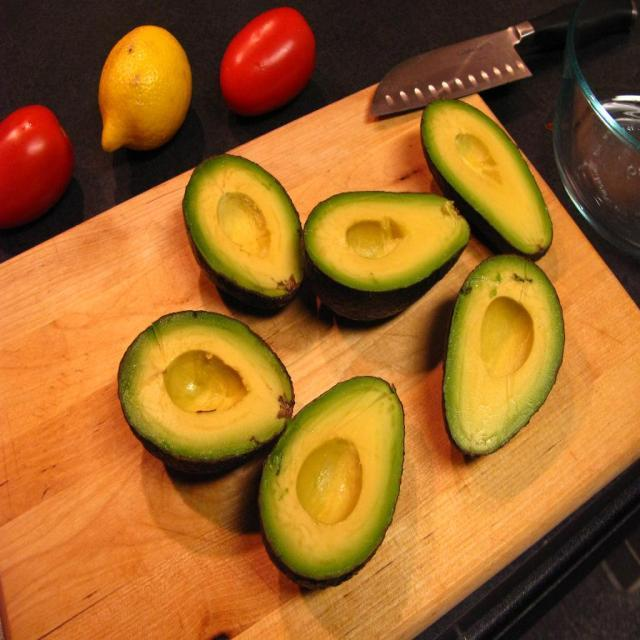Lemon: (91, 29, 191, 147)
